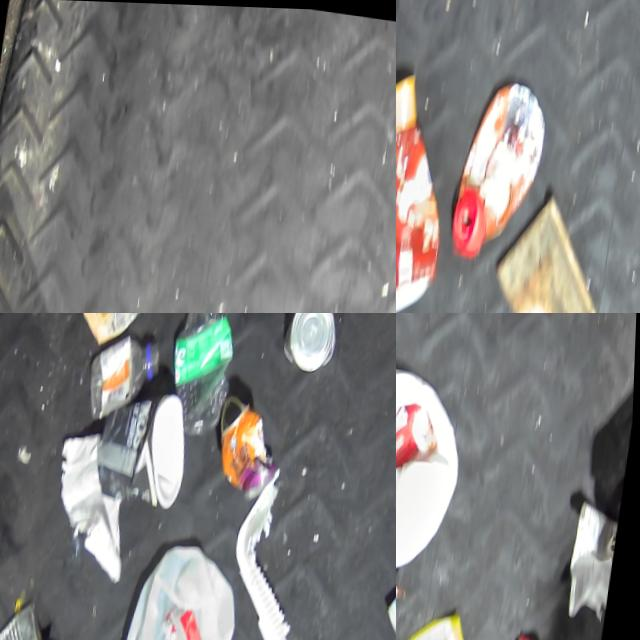can: (279, 313, 342, 379), (503, 617, 551, 640)
milk_jug: (396, 334, 480, 581), (101, 549, 242, 640)
non_white_jug: (396, 64, 462, 313)
plastic_bottle: (158, 313, 244, 442)
